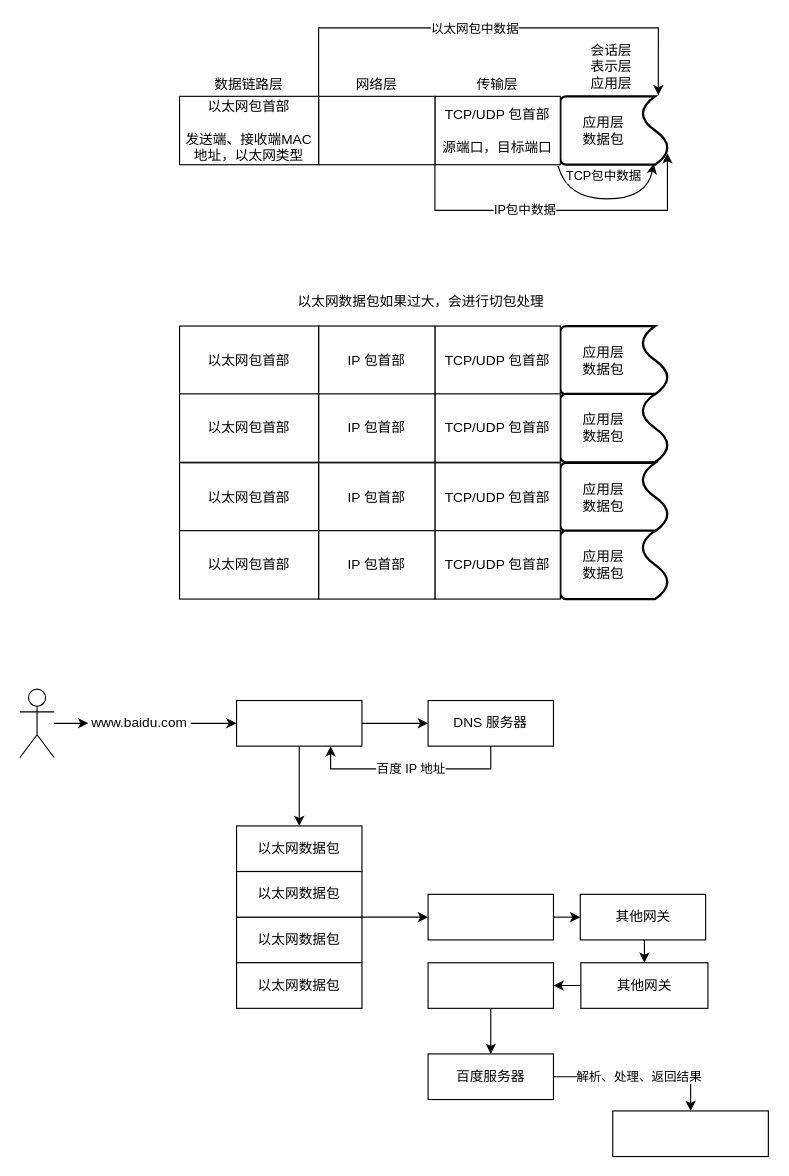
Image size: 789x1176. Some labels were removed from this diagram. The shapes that lost their labels are listed below. From the top down, each one's box as (x1, y1, x2, y2) in pixels, then its label:
(317, 95, 435, 165): IP 包首部 发送端、接收端 IP，协议类型
(19, 688, 54, 758): 用户
(235, 699, 362, 746): 浏览器
(427, 893, 553, 940): 网关
(427, 962, 553, 1008): baidu.com 网关
(612, 1110, 768, 1157): 再层层封装，网关传输，浏览器解包，渲染。略...
